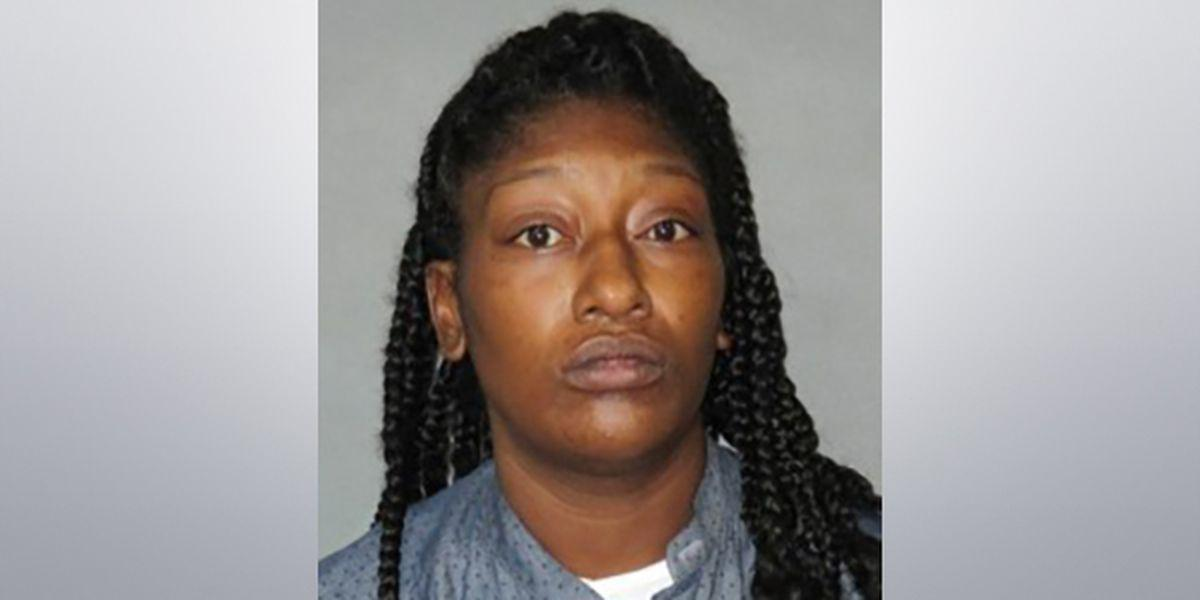Sober: (479, 129, 718, 424)
